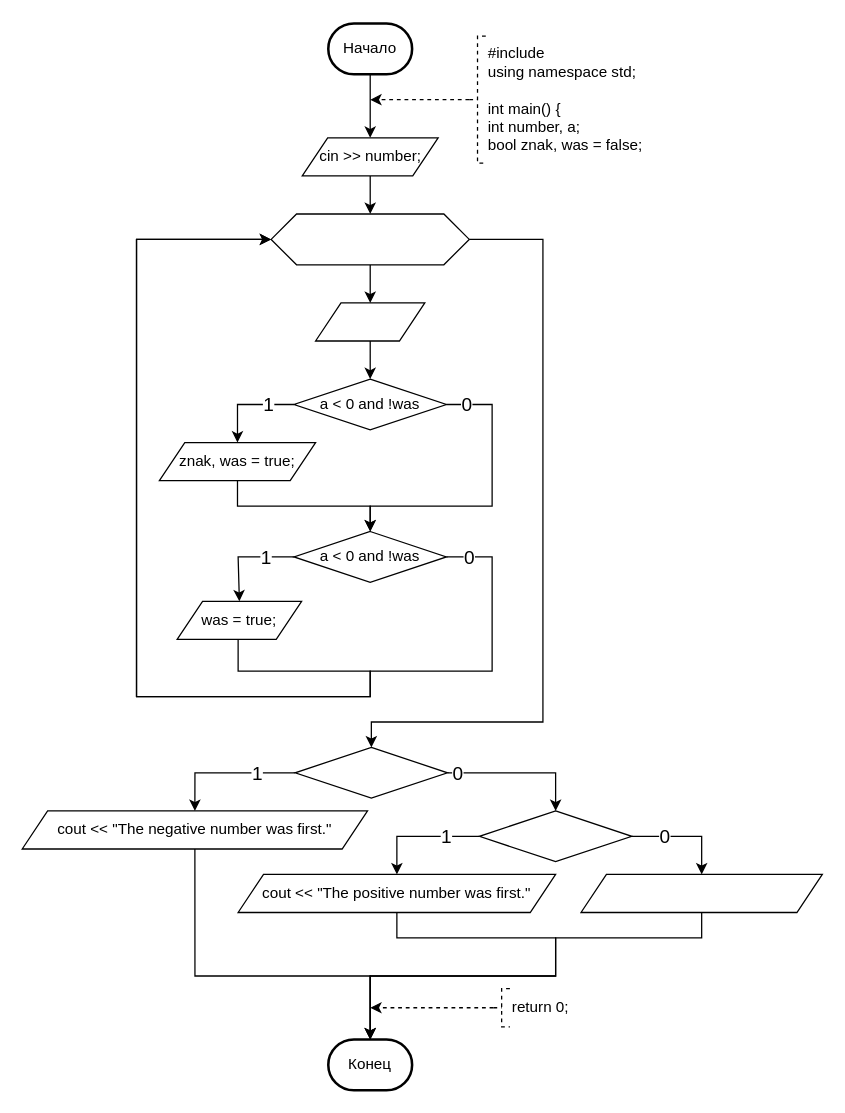
Some shapes in this 845 by 1113 pixel diagram are drawn without their labels. The shapes that lost their labels are listed below. From the top down, each one's box as (x1, y1, x2, y2) in pixels, then its label:
(270, 213, 469, 265): int i = 0; i < number; ++i
(314, 302, 425, 341): cin >> a;
(294, 746, 448, 798): znak == true
(478, 810, 632, 862): !znak and was
(580, 873, 822, 912): cout << "All numbers was '0'."
